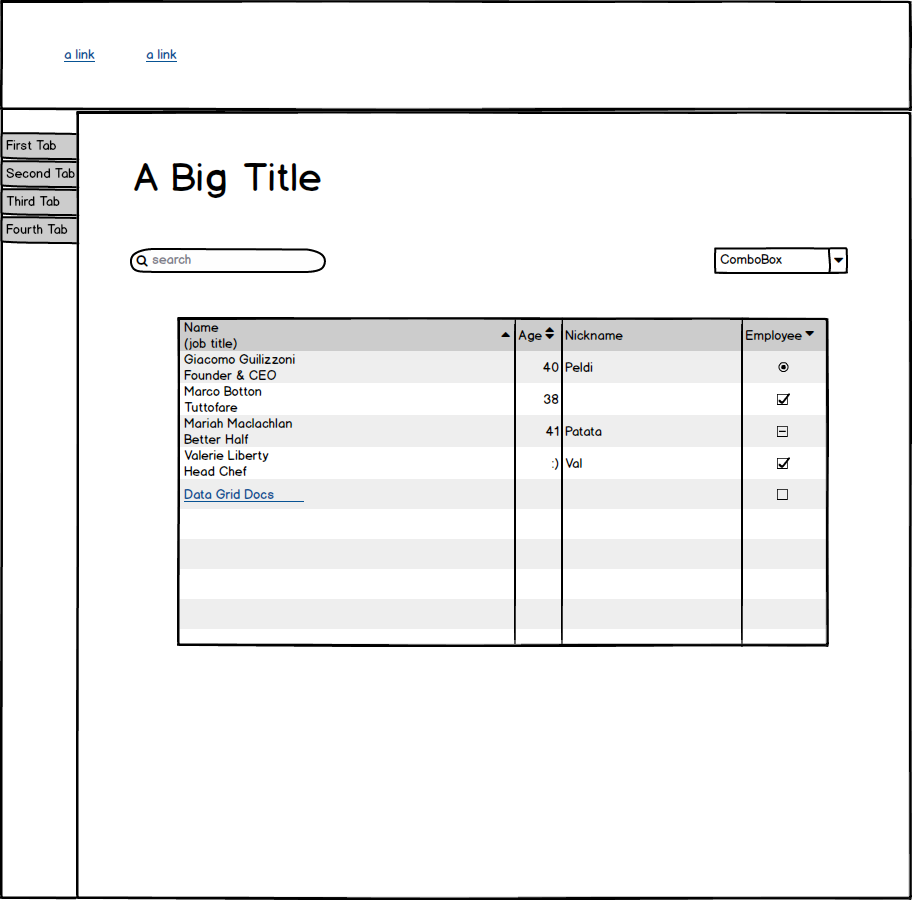h1: (124, 149, 324, 204)
navlink: (140, 40, 187, 77), (55, 43, 104, 69)
search: (124, 243, 334, 282)
select_box: (710, 238, 855, 284)
sidebar: (4, 122, 87, 254)
table: (173, 308, 837, 654)
